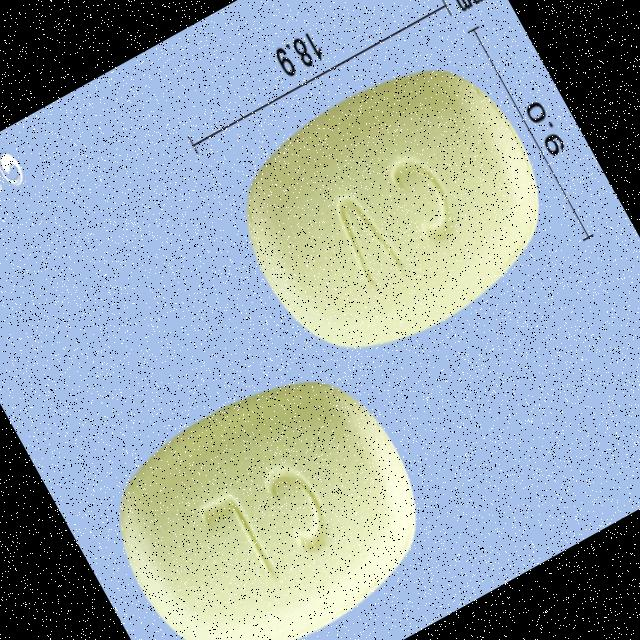Cllaricin: (204, 34, 583, 394), (84, 345, 459, 640)
